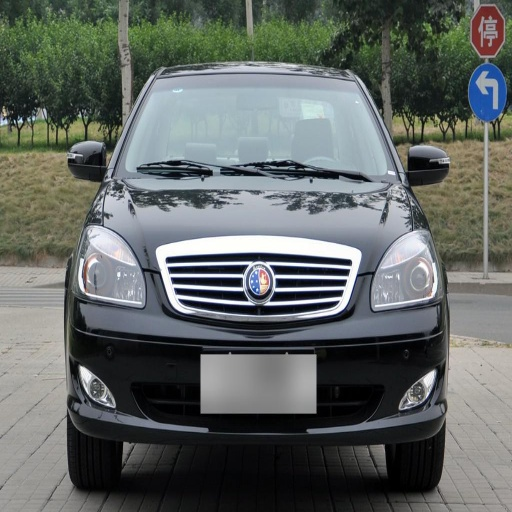front_bumper: (73, 268, 444, 443)
front_right_light: (79, 225, 145, 308)
hood: (105, 174, 414, 315)
left_mirror: (407, 144, 449, 185)
